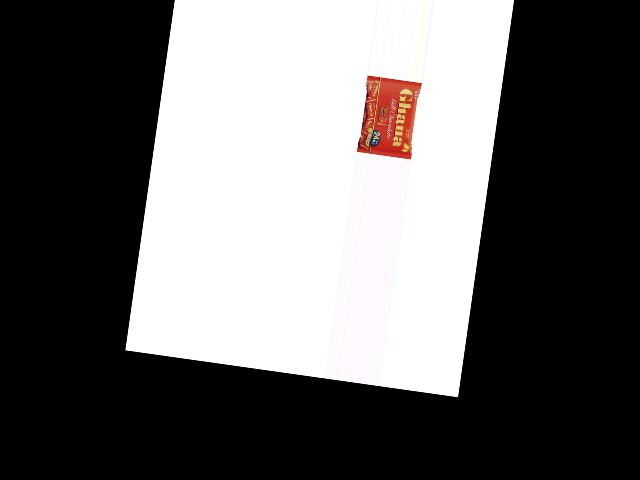chocolate: (354, 76, 420, 160)
